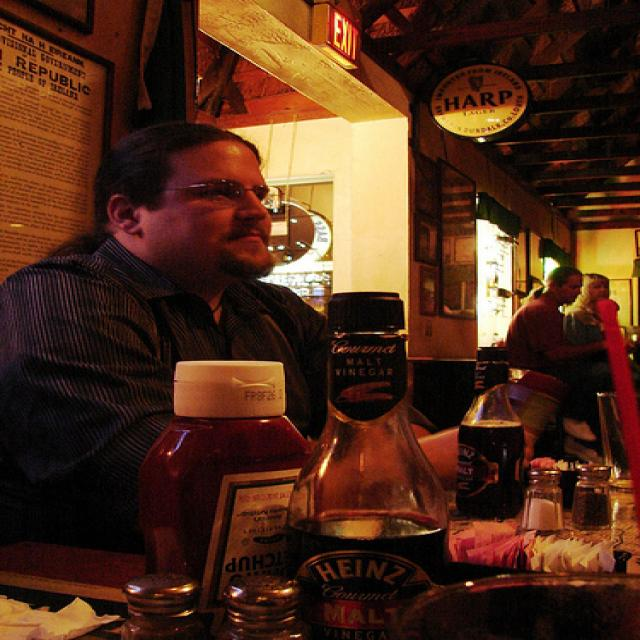Bottle: (156, 335, 359, 622), (296, 266, 415, 524), (455, 333, 545, 563)
People: (0, 126, 256, 460), (553, 222, 640, 412), (511, 253, 568, 369)
